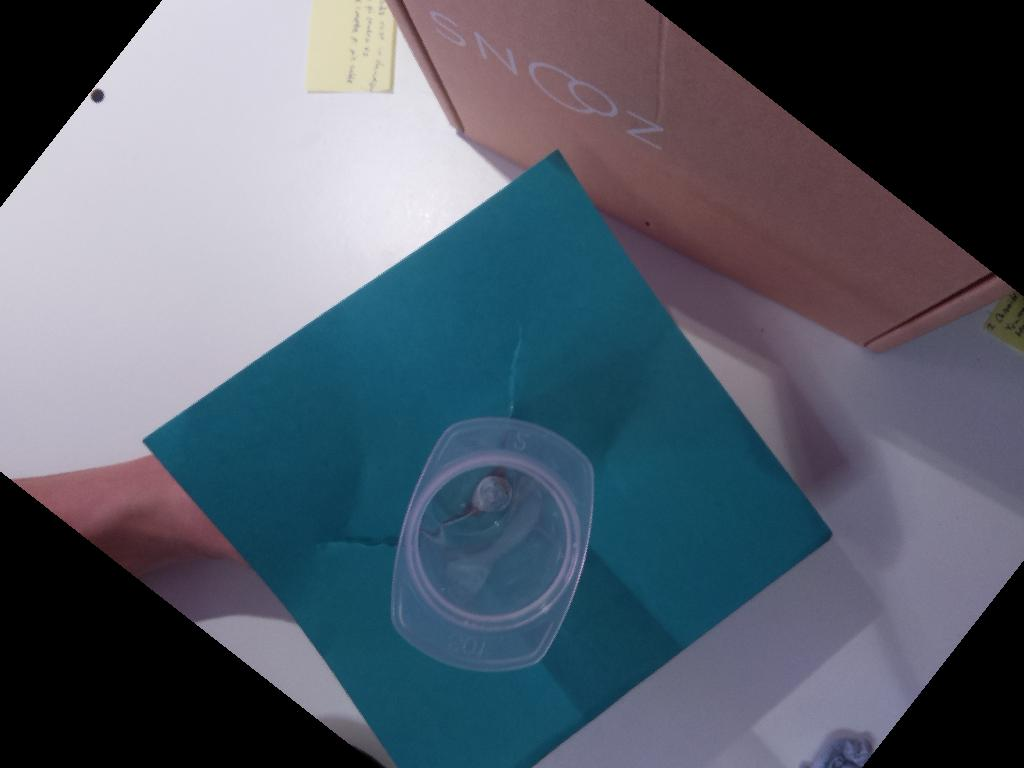clean: (390, 415, 595, 669)
